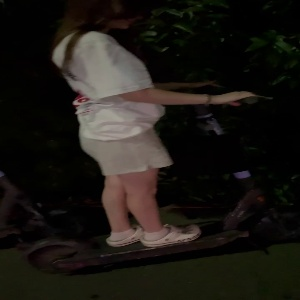human on a scooter: (15, 1, 298, 276)
